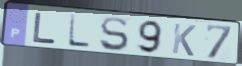7: (204, 23, 234, 61)
9: (135, 19, 164, 55)
K: (170, 22, 198, 58)
L: (66, 13, 92, 50), (32, 11, 58, 45)
S: (98, 15, 131, 53)
